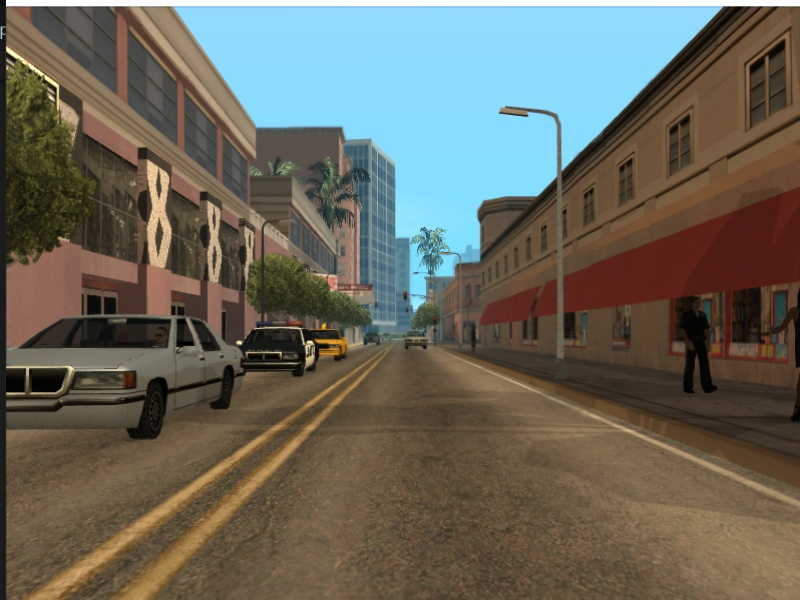person: (675, 293, 723, 399)
pole: (548, 113, 579, 361), (455, 252, 466, 351)
vehicle: (5, 310, 247, 446), (240, 322, 319, 378), (314, 326, 348, 362), (402, 330, 428, 351), (361, 328, 384, 347)
